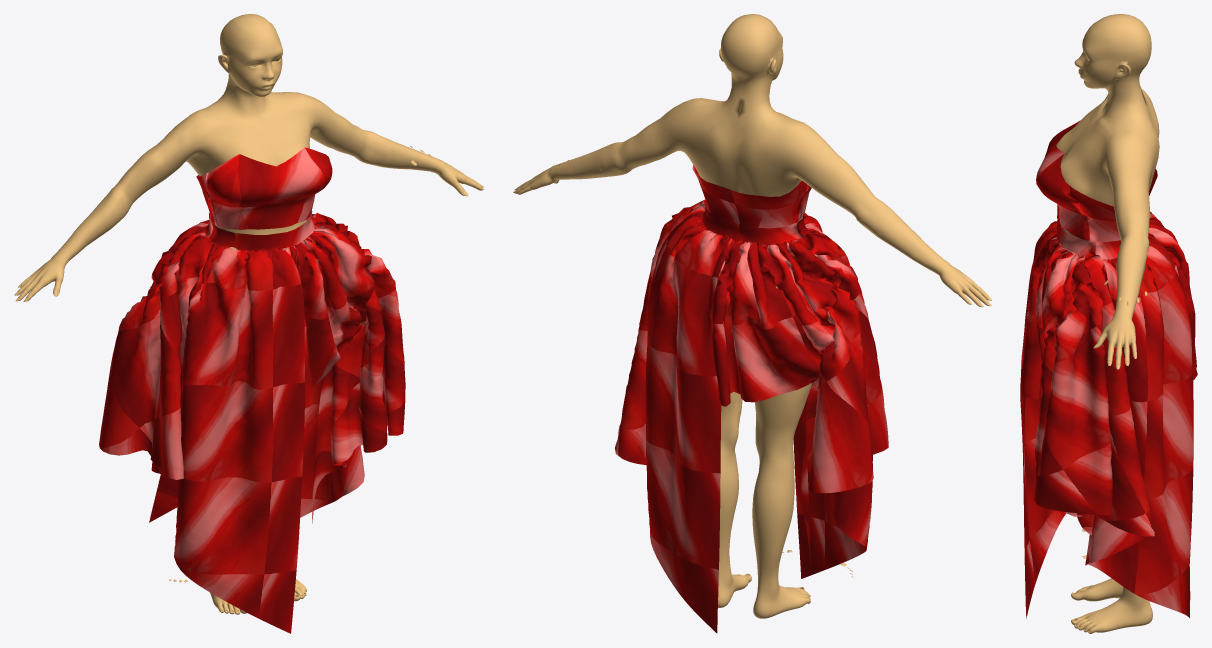
File: dress2.glb
The picture shows the model from 3 angles, left to right: view 1: azimuth 30°, elevation 25°; view 2: azimuth 150°, elevation 25°; view 3: azimuth 270°, elevation 25°; orthographic projection. The views are drawn at different scales.
Visible parts, largest first — view 1: Project 1, Body.003; view 2: Project 1, Body.003; view 3: Project 1, Body.003.
Part boxes in pixels (box(x1,y1,x2,y2)): Project 1: box(99, 147, 405, 633); Body.003: box(17, 14, 483, 614); Project 1: box(615, 165, 888, 633); Body.003: box(514, 14, 989, 618); Project 1: box(1020, 120, 1197, 618); Body.003: box(1056, 14, 1159, 633).
Size of the model in its own units: 1.58 by 1.88 by 0.4991.
4 materials, 1 textured.
